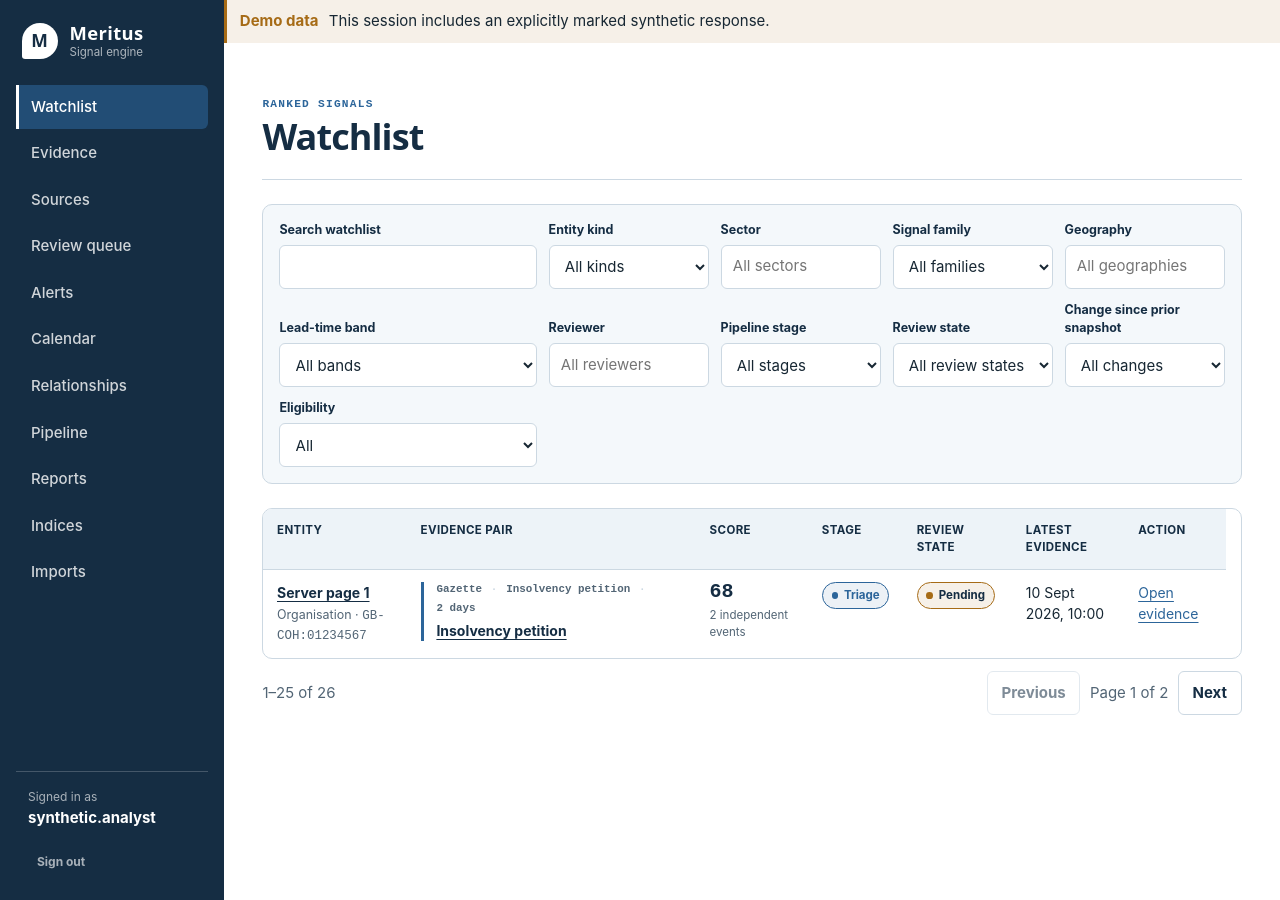
analyst desk interactions › uses the server page without slicing it a second time
Expected: the link "Server page 1" is shown, [277, 584, 370, 601]
Click the button "Next" at (1210, 693), box [1178, 671, 1242, 715]
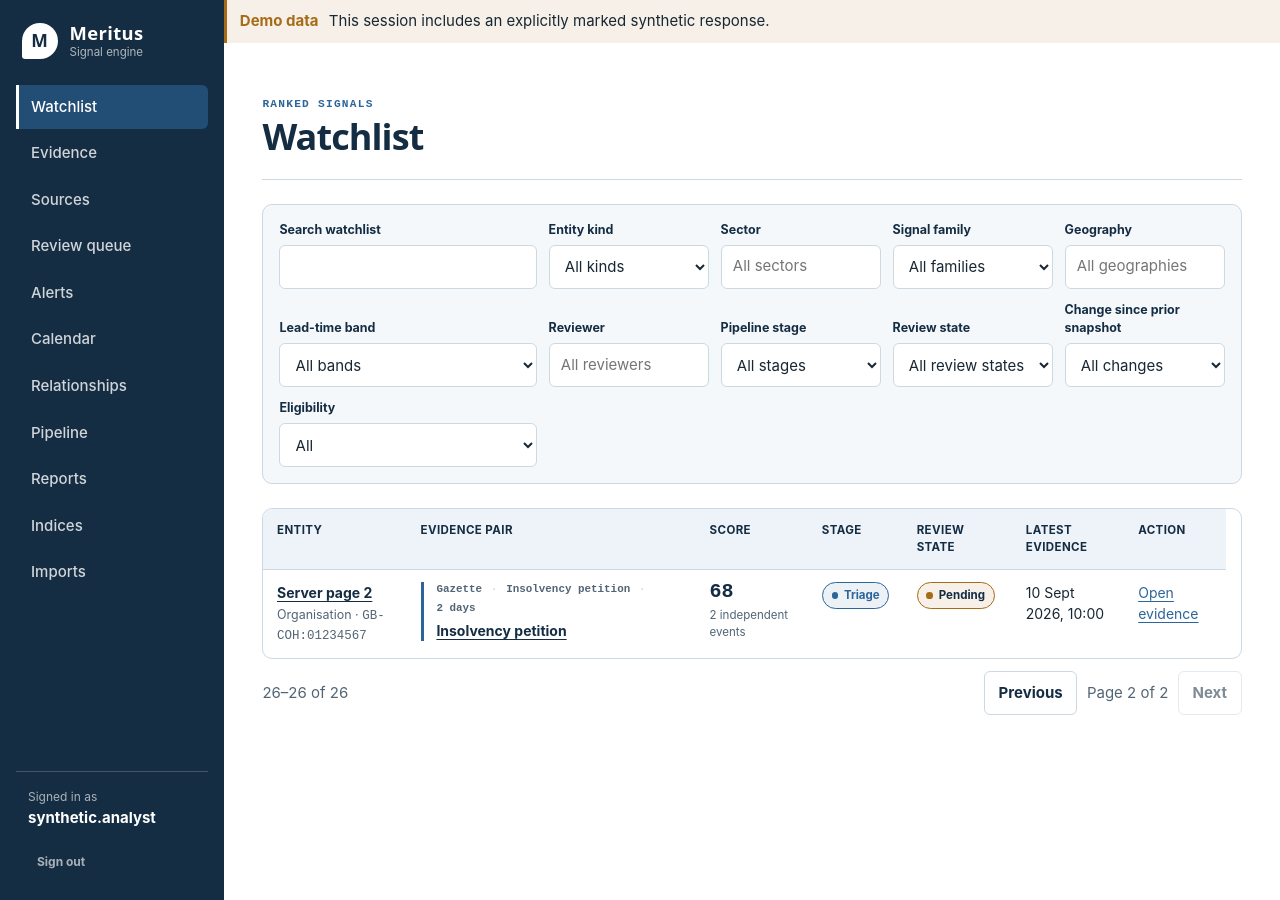
Expected: the link "Server page 2" is shown, [277, 584, 372, 601]
